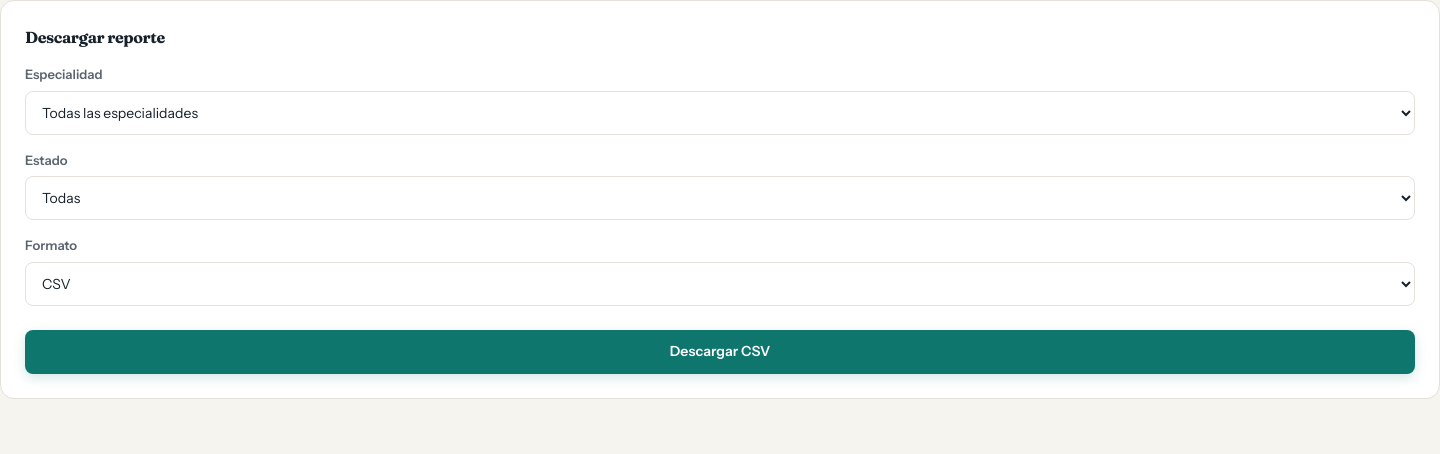
Test case: ReportDownloadCard › displays API error message on failure
Click the button "Descargar CSV": [720, 352] box [25,330,1415,374]
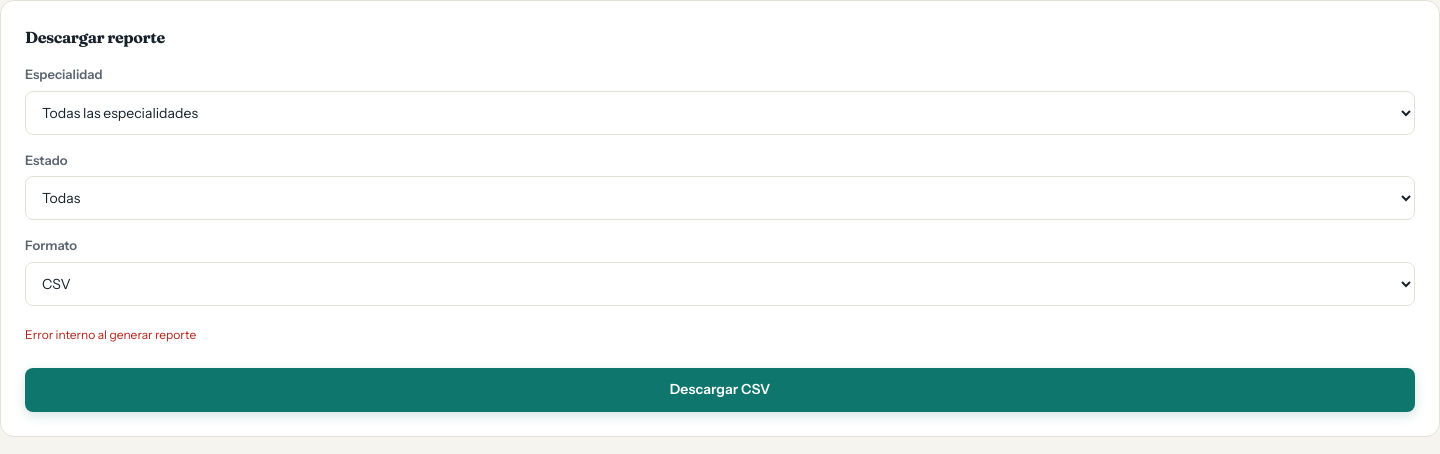
Check: the text "Error interno al generar reporte" is shown, box [25,326,196,342]
